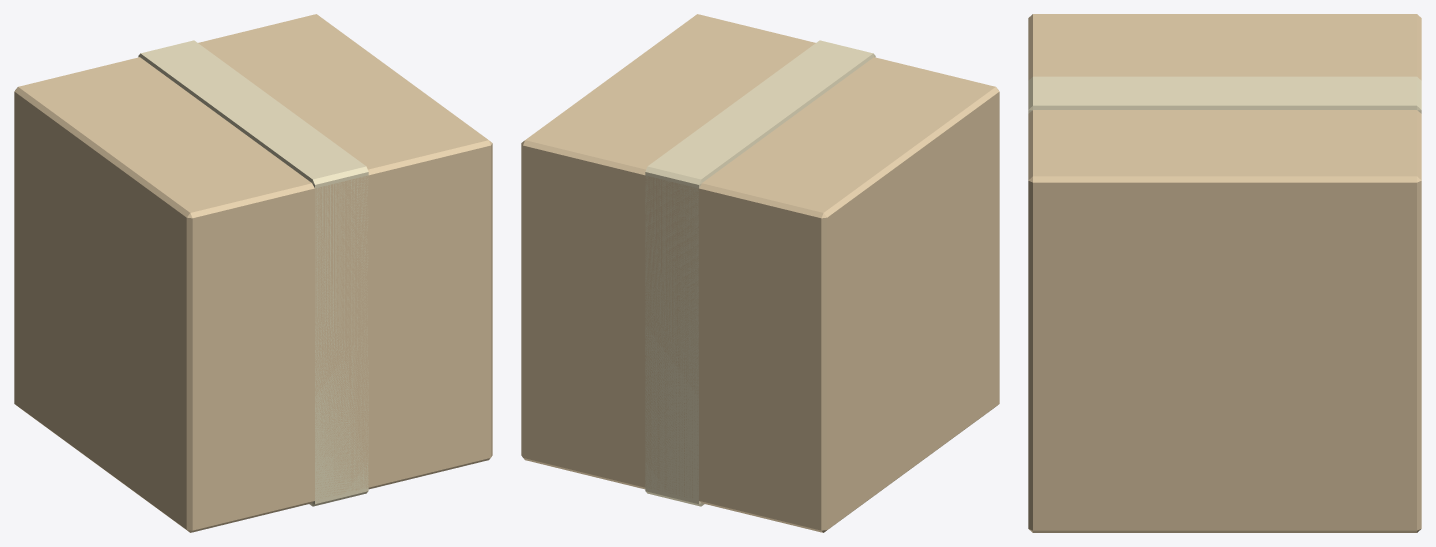
Rendered from BoxMedium.glb.
The picture shows the model from 3 angles, left to right: view 1: azimuth 30°, elevation 25°; view 2: azimuth 150°, elevation 25°; view 3: azimuth 270°, elevation 25°; orthographic projection. The views are drawn at different scales.
Parts seen in each view (by area): view 1: Box, Tape; view 2: Box, Tape; view 3: Box, Tape.
Boxes of the visible parts, x1,y1,x2,y2 form: Box: (14,14,492,532); Tape: (138,40,368,506); Box: (521,14,999,532); Tape: (645,40,875,506); Box: (1028,14,1421,532); Tape: (1028,76,1421,113).
Size of the model in its own units: 0.45 by 0.46 by 0.45.
